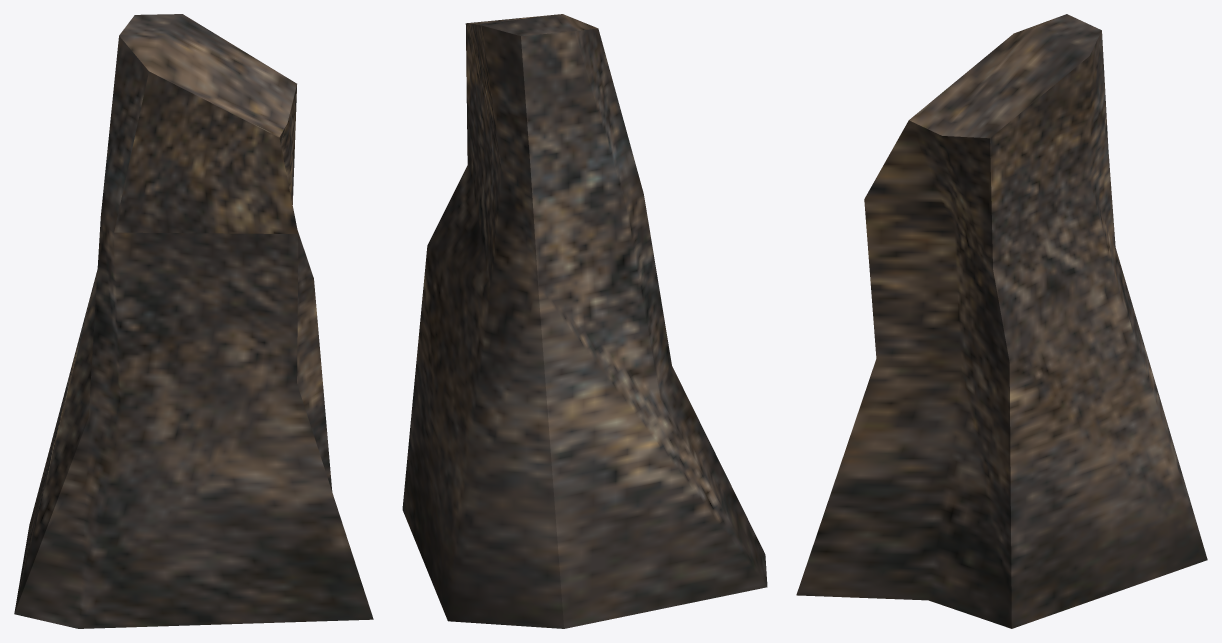
The picture shows the model from 3 angles, left to right: view 1: azimuth 30°, elevation 25°; view 2: azimuth 150°, elevation 25°; view 3: azimuth 270°, elevation 25°; orthographic projection. The views are drawn at different scales.
Visible parts, largest first — view 1: wj023; view 2: wj023; view 3: wj023.
Part boxes in pixels (x1,y1,x2,y2): wj023: [14, 14, 373, 628]; wj023: [402, 14, 767, 628]; wj023: [796, 14, 1207, 628].
Bounding box in the file's own units: 228 × 339 × 242.
